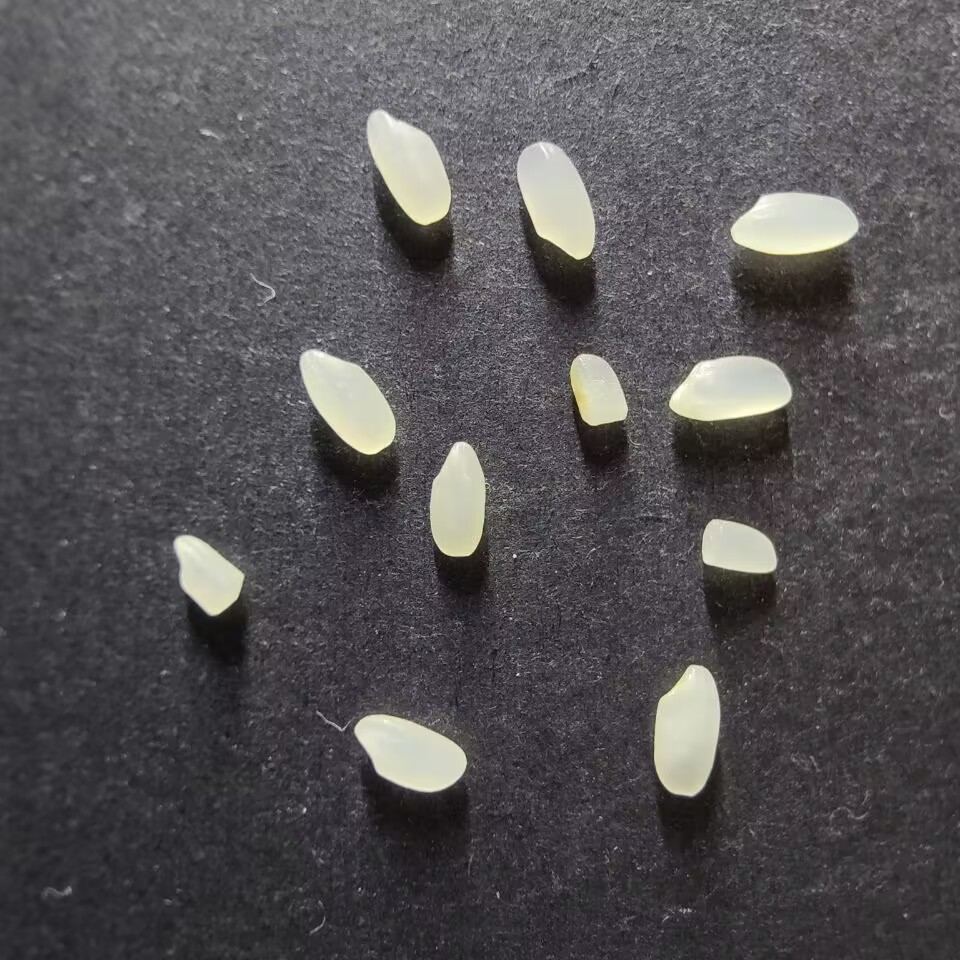broken: (170, 532, 245, 617), (699, 515, 779, 575), (569, 350, 631, 426)
rice: (298, 345, 399, 457), (365, 106, 454, 225), (516, 138, 597, 260), (650, 662, 722, 797), (353, 711, 469, 794), (666, 353, 793, 423), (728, 191, 859, 257), (426, 439, 487, 560)
